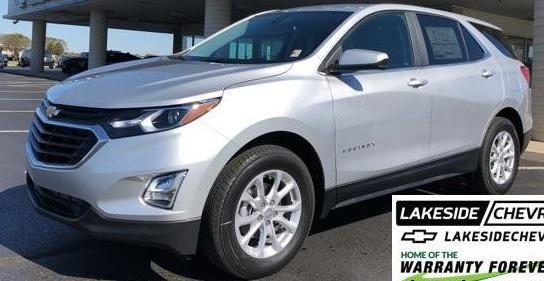SUV: (26, 4, 532, 278)
